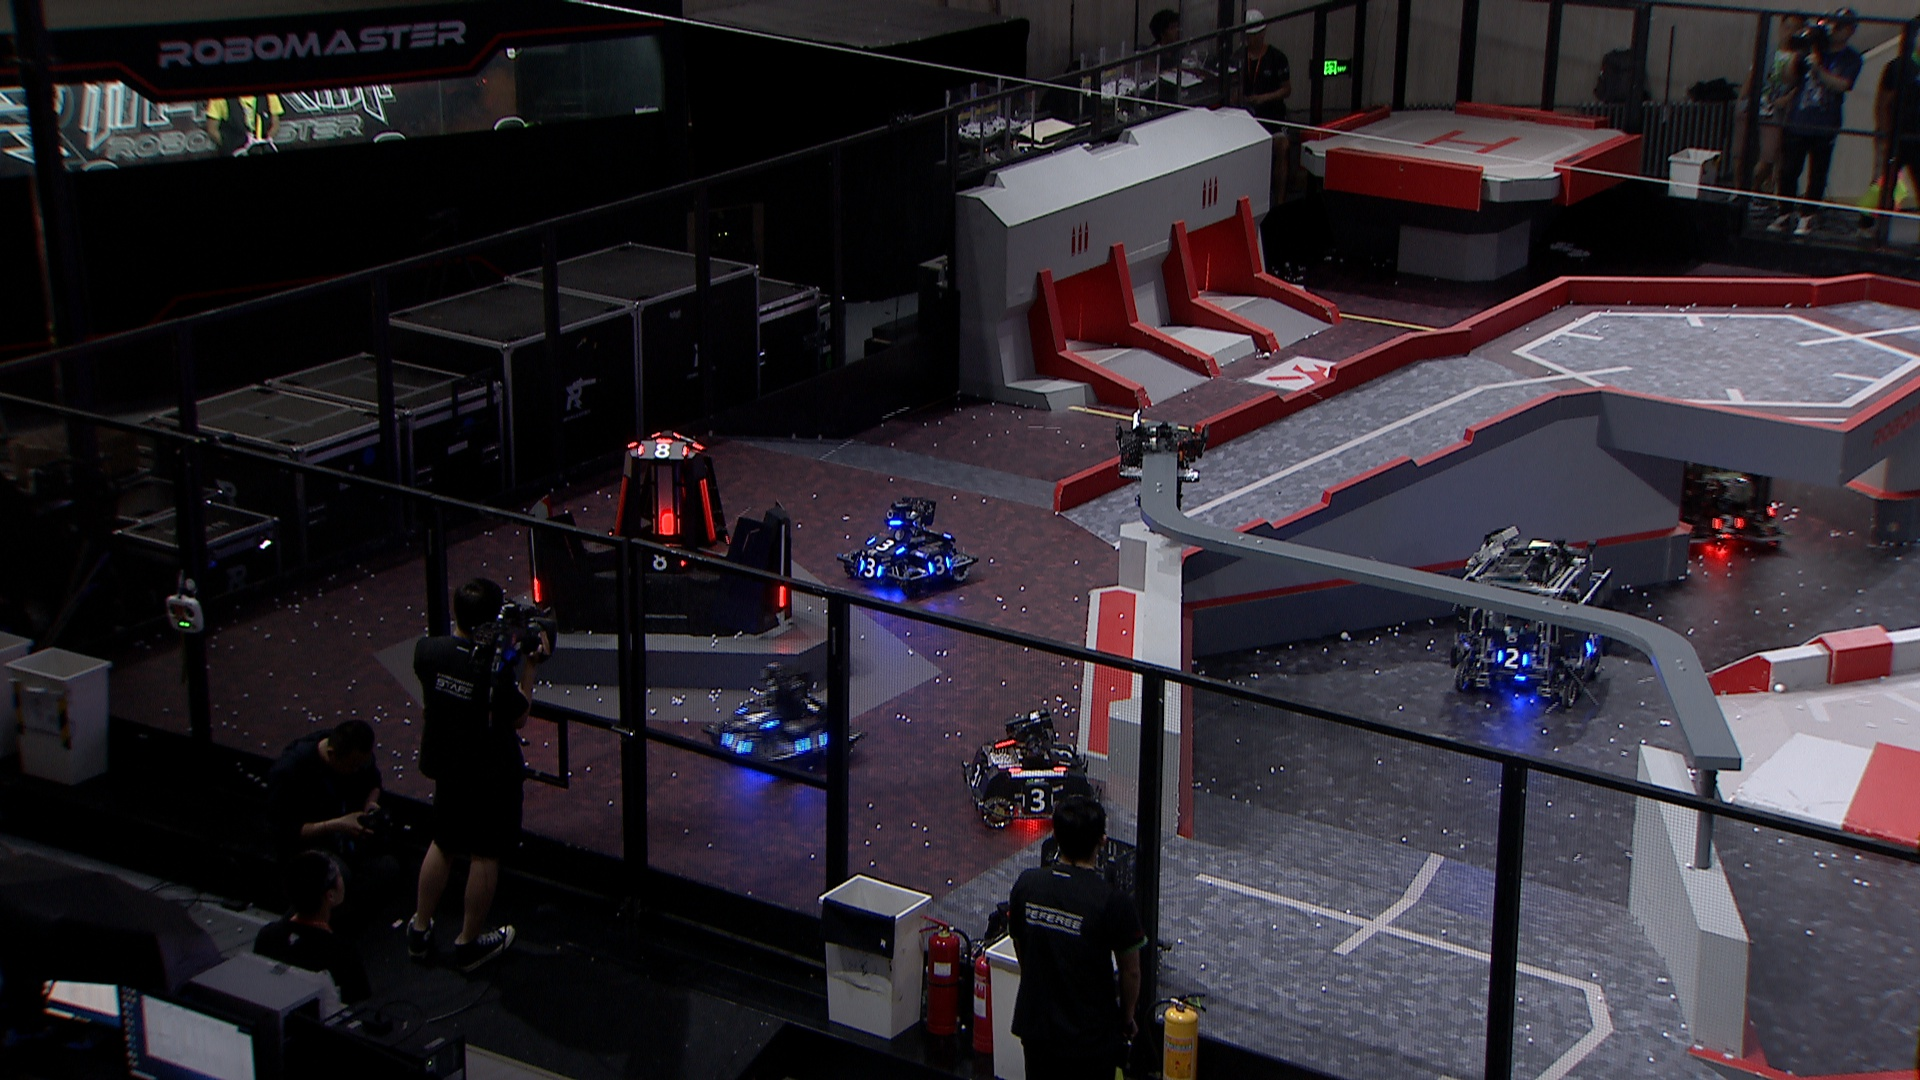armor: (699, 479, 717, 545), (1015, 789, 1054, 812), (641, 550, 683, 571), (717, 731, 752, 756), (636, 440, 684, 458), (615, 473, 628, 535), (793, 732, 828, 754), (1494, 646, 1524, 670), (738, 707, 771, 727), (659, 506, 678, 541), (1714, 516, 1746, 535), (1050, 740, 1073, 765), (856, 556, 882, 579), (868, 535, 902, 553), (965, 764, 986, 787), (1581, 632, 1600, 655), (927, 556, 955, 572), (778, 575, 789, 609), (533, 576, 542, 604)
base: (522, 419, 795, 636)
car: (1443, 518, 1613, 709), (984, 829, 1153, 1002), (708, 657, 864, 774), (960, 707, 1102, 825), (1662, 436, 1793, 559), (840, 496, 973, 597)
watcher: (1110, 404, 1212, 517)
